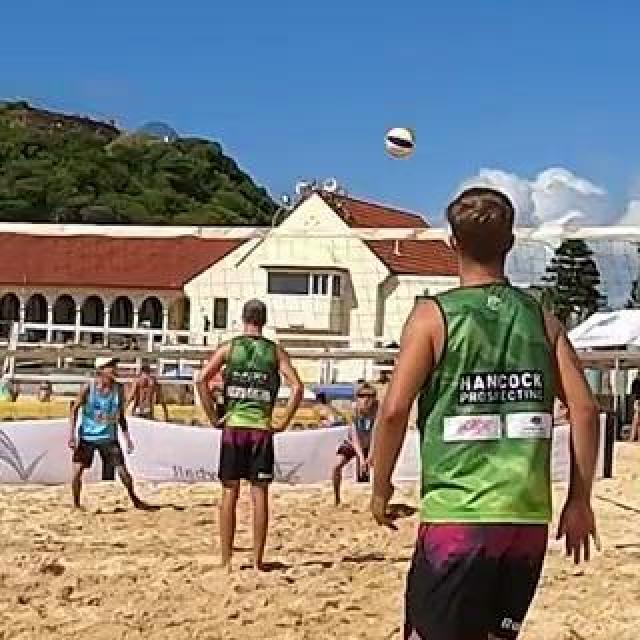volleyball: (386, 127, 416, 159)
